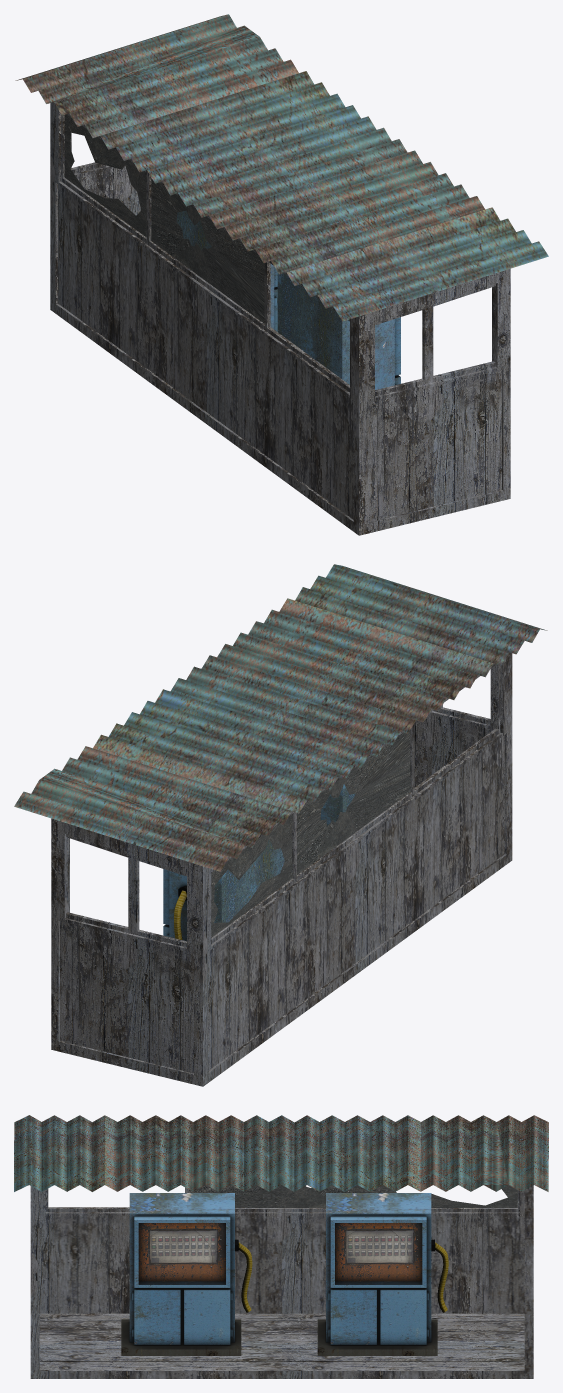
The model's file is Environmet_6.fbx.
3 views of the same model, one above another, from view 1: azimuth 30°, elevation 25°; view 2: azimuth 150°, elevation 25°; view 3: azimuth 270°, elevation 25° (orthographic). The views are drawn at different scales.
Parts seen in each view (by area): view 1: Environmet_6; view 2: Environmet_6; view 3: Environmet_6.
Part boxes in pixels (left/top/right/bottom): Environmet_6: left=15, top=14, right=548, bottom=535; Environmet_6: left=14, top=564, right=547, bottom=1086; Environmet_6: left=14, top=1115, right=548, bottom=1378.
Size of the model in its own units: 2.6 by 3.02 by 7.15.
Materials: 4 (4 with a texture image).
